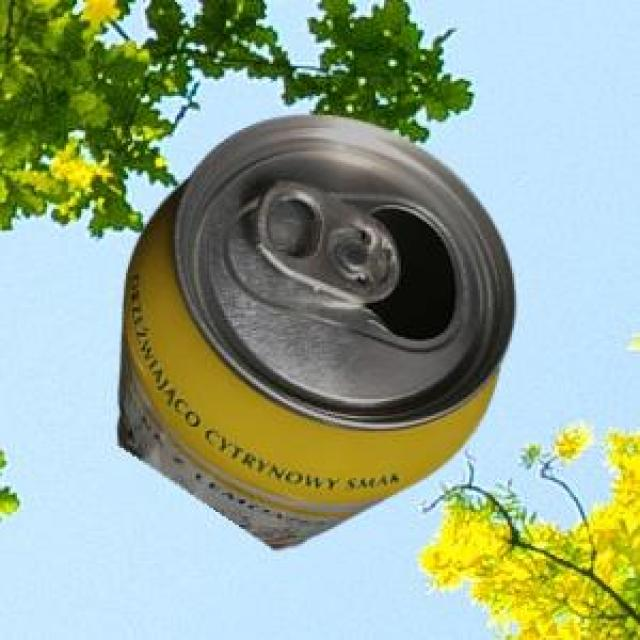logam: (114, 112, 513, 545)
